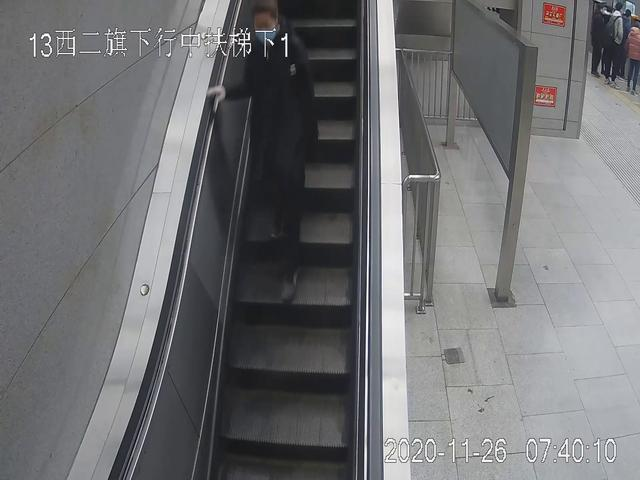person: (230, 2, 325, 304), (588, 5, 610, 79), (607, 5, 621, 87), (625, 23, 640, 89)
